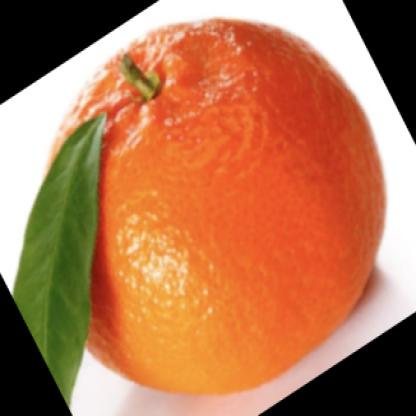fresh: (44, 16, 386, 395)
